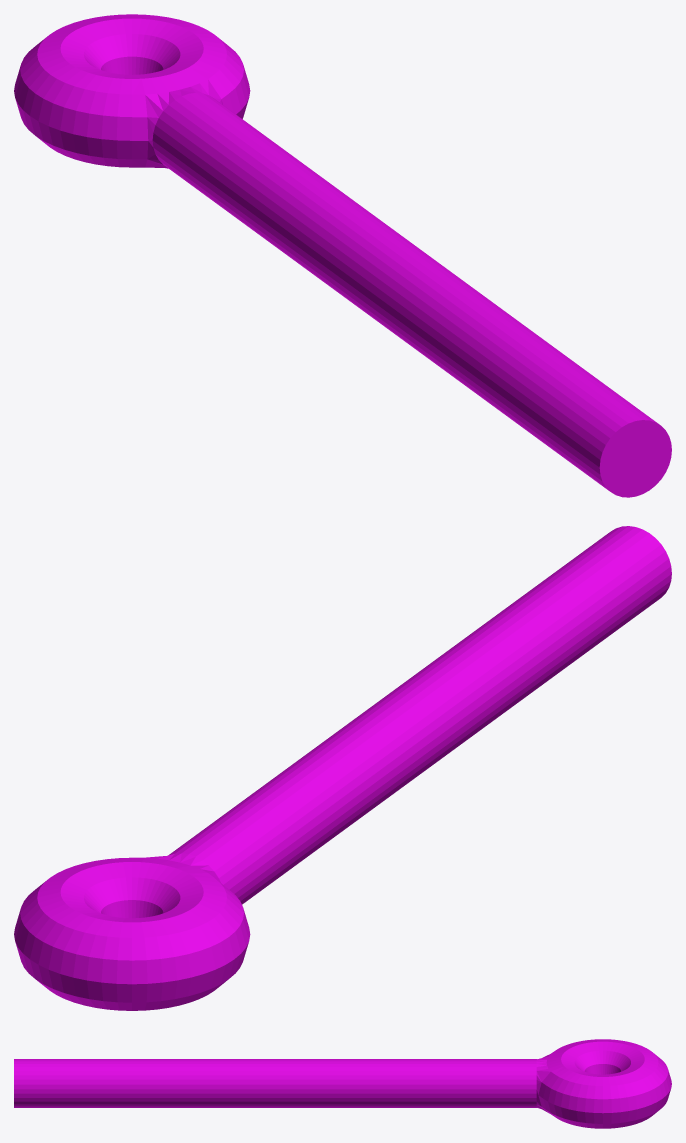
3 views of the same model, one above another, from view 1: azimuth 30°, elevation 25°; view 2: azimuth 150°, elevation 25°; view 3: azimuth 270°, elevation 25° (orthographic). The views are drawn at different scales.
Parts seen in each view (by area): view 1: first_stick; view 2: first_stick; view 3: first_stick.
Boxes of the visible parts, <box> form: first_stick: <box>14,14,671,497</box>; first_stick: <box>14,526,671,1010</box>; first_stick: <box>14,1039,671,1128</box>.
Bounding box in the file's own units: 3.3 × 15.72 × 1.3.
